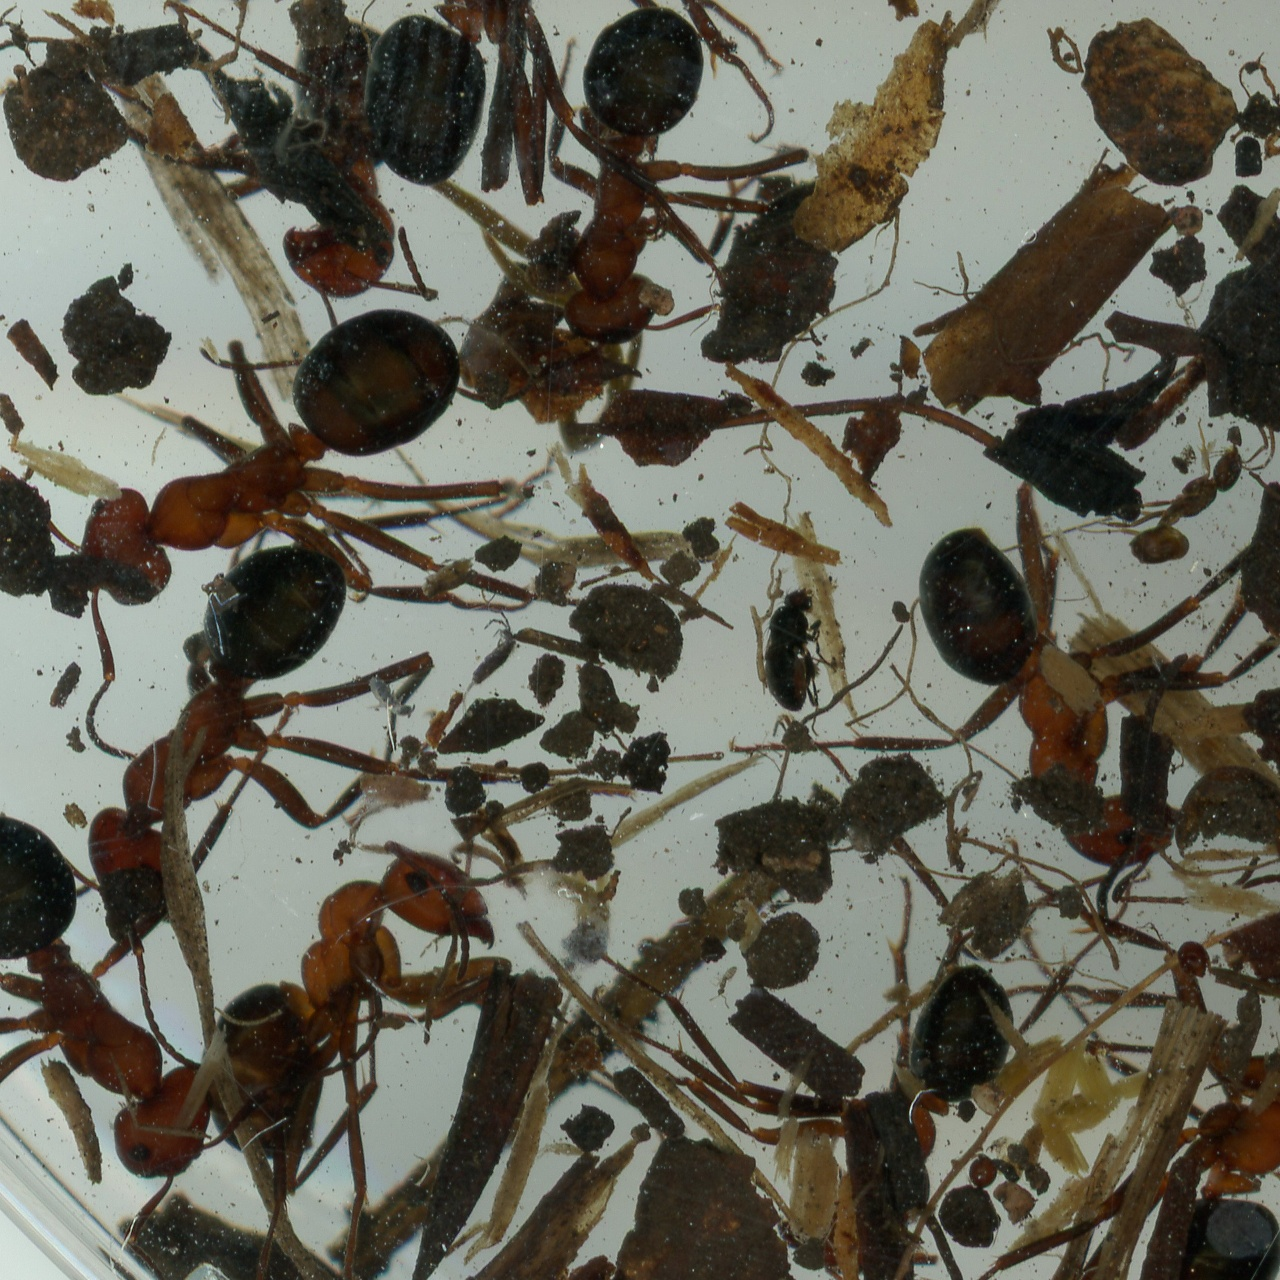arthropod: (0, 229, 561, 782), (4, 492, 482, 1109), (907, 515, 1280, 906), (128, 0, 493, 389), (0, 713, 267, 1235), (465, 0, 815, 353), (207, 838, 516, 1220), (578, 948, 1021, 1192), (356, 0, 790, 186), (1135, 898, 1280, 1280), (1056, 372, 1280, 615), (999, 0, 1280, 152), (756, 577, 832, 744), (457, 606, 520, 715), (366, 672, 420, 724), (708, 965, 741, 1009)
